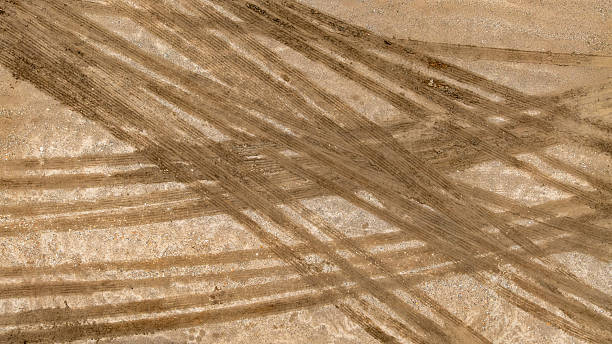vehicle_track: (0, 0, 611, 342)
